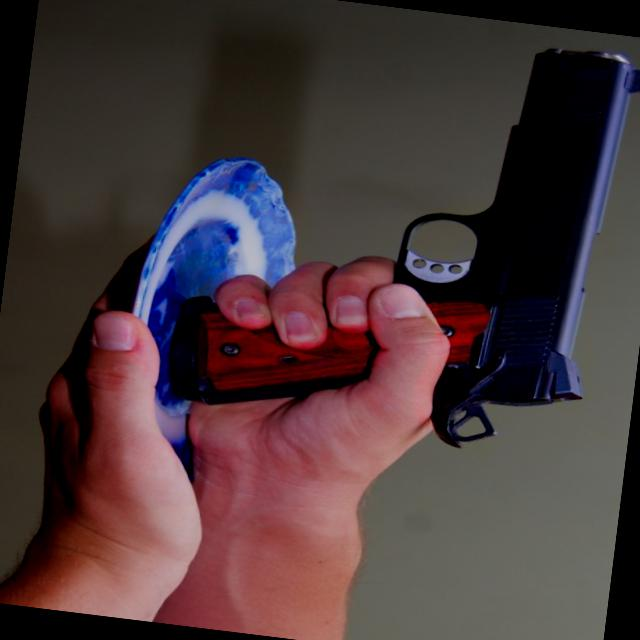handgun: (146, 1, 639, 465)
